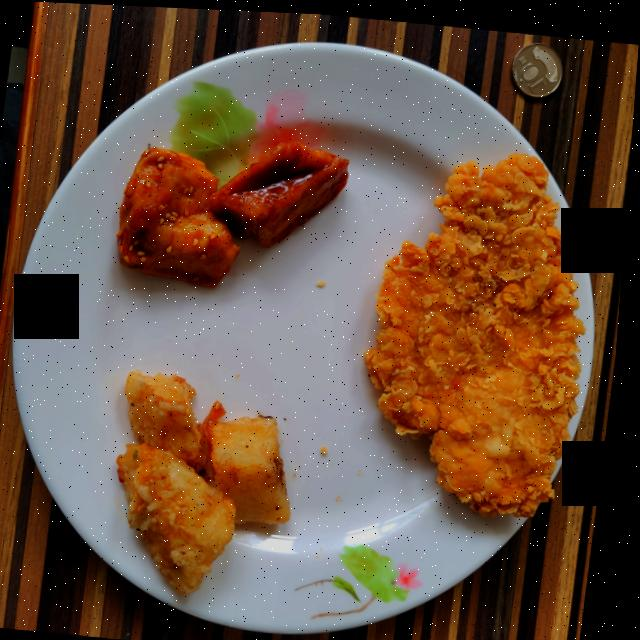coin: (511, 38, 562, 93)
creamy tofu: (121, 139, 350, 285)
fried chicken cutlet: (369, 149, 588, 512)
fried potato: (123, 369, 297, 592)
